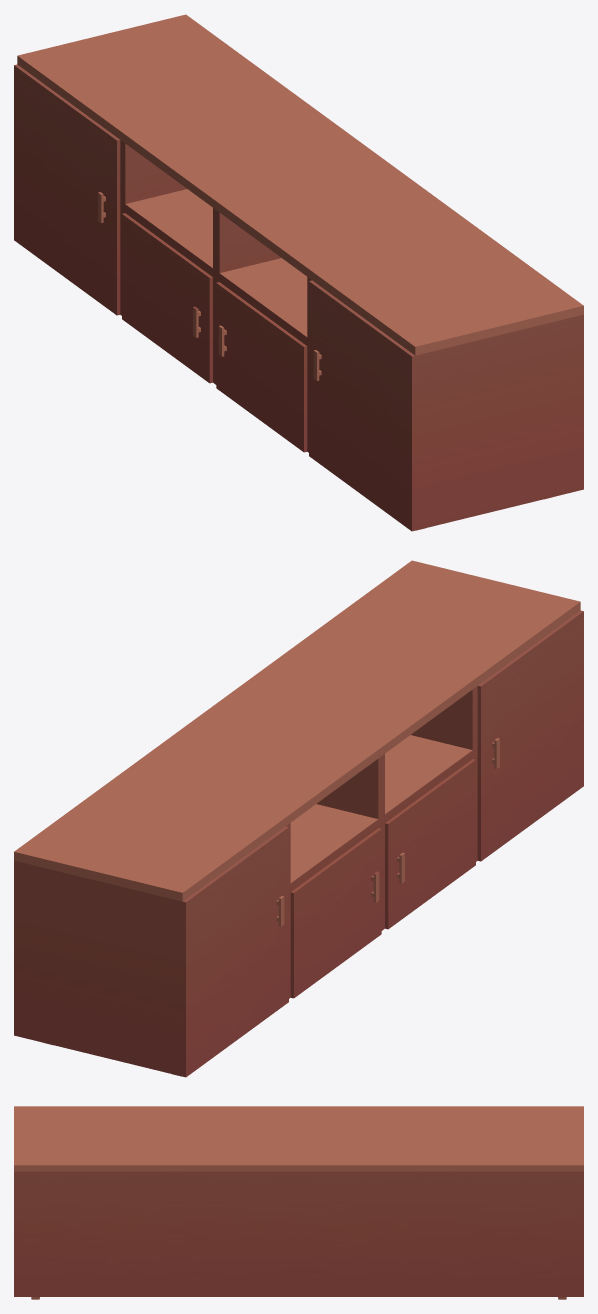
The model's file is SM_Shelf_Tv_2_01.fbx.
The picture shows the model from 3 angles, top to bottom: view 1: azimuth 30°, elevation 25°; view 2: azimuth 150°, elevation 25°; view 3: azimuth 270°, elevation 25°; orthographic projection. The views are drawn at different scales.
Parts seen in each view (by area): view 1: SM_Shelf_Tv_2_01; view 2: SM_Shelf_Tv_2_01; view 3: SM_Shelf_Tv_2_01.
Boxes of the visible parts, <box> form: SM_Shelf_Tv_2_01: <box>14,14,583,531</box>; SM_Shelf_Tv_2_01: <box>14,560,583,1077</box>; SM_Shelf_Tv_2_01: <box>14,1106,583,1299</box>.
Size of the model in its own units: 67.85 by 71.51 by 263.
